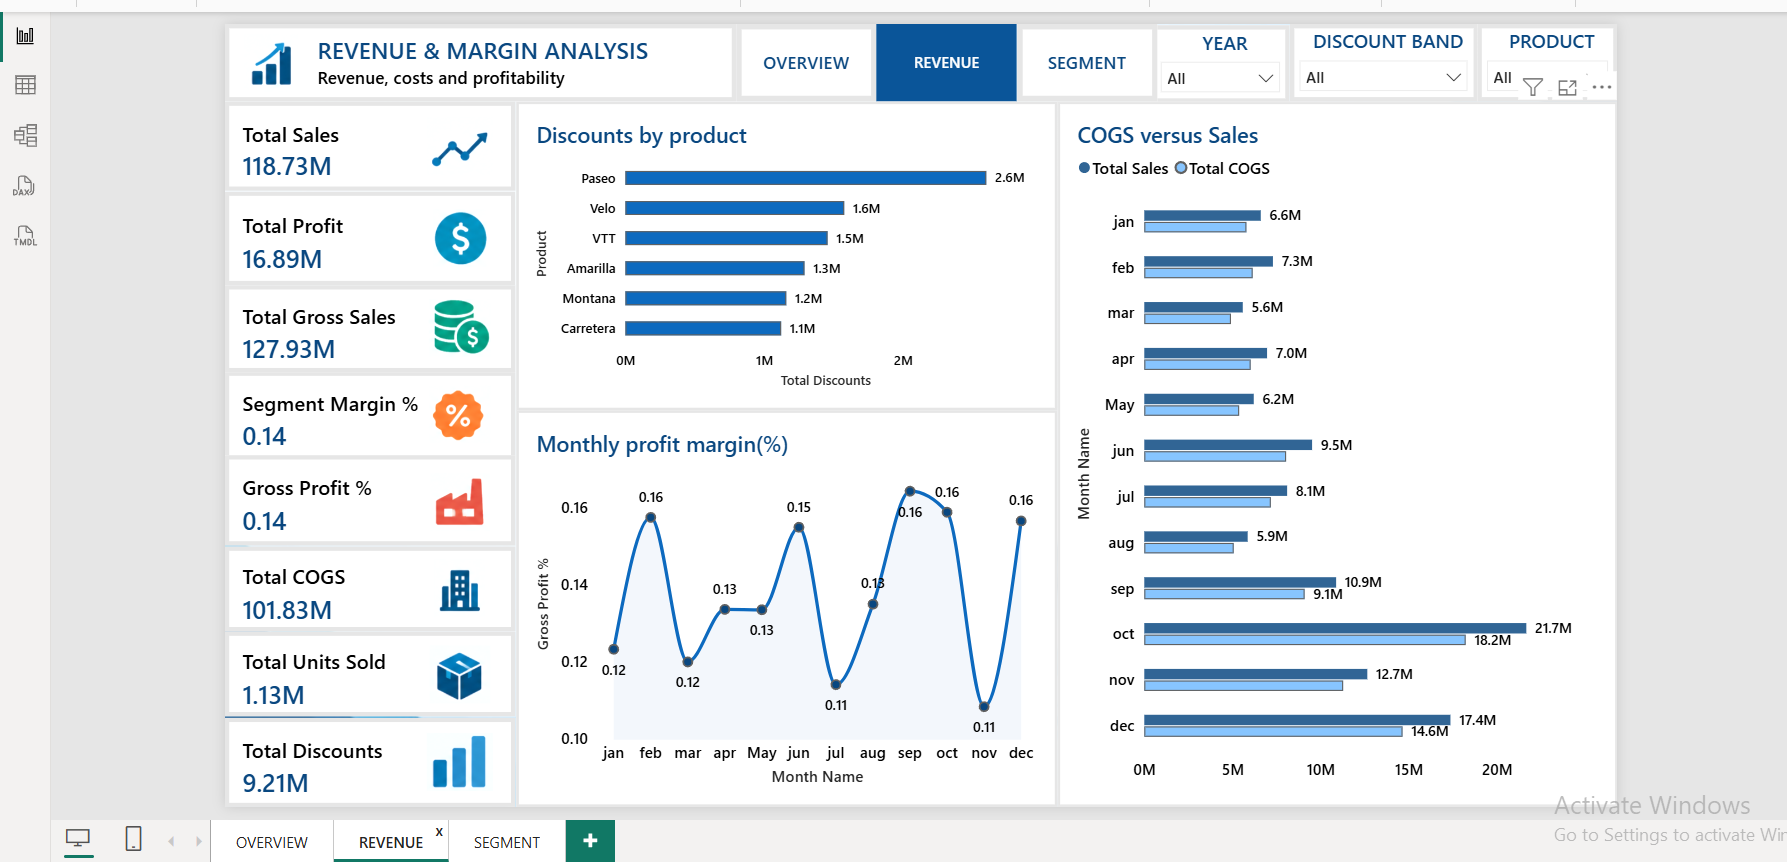

What the dashboard file says about the page in this screenshot:
{"tool":"powerbi","page":{"name":"REVENUE","canvas":[1280,720],"ordinal":1},"visuals":[{"type":"slicer","title":"YEAR","fields":{"Values":["DateTable.Year"]},"box":[851.2,1.2,127.5,71.2],"z":0},{"type":"slicer","title":"DISCOUNT BAND","fields":{"Values":["financial_sample_cleaned.Discount Band"]},"box":[978.8,0,172.5,71.2],"z":1000},{"type":"slicer","title":"PRODUCT","fields":{"Values":["financial_sample_cleaned.Product"]},"box":[1151.2,0,128.8,71.2],"z":2000},{"type":"clusteredBarChart","title":"Discounts by product","fields":{"Y":["financial_sample_cleaned.Total Discounts"],"Category":["financial_sample_cleaned.Product"]},"box":[267.5,71.2,497.5,283.8],"z":3000},{"type":"clusteredBarChart","title":"COGS versus Sales","fields":{"Category":["financial_sample_cleaned.Month Name"],"Y":["financial_sample_cleaned.Total Sales","financial_sample_cleaned.Total COGS"]},"box":[765,71.2,515,648.8],"z":4000},{"type":"lineChart","title":"Monthly profit margin(%)","fields":{"Category":["financial_sample_cleaned.Month Name"],"Y":["financial_sample_cleaned.Gross Profit %"]},"box":[267.5,355,497.5,365],"z":5000},{"type":"shape","box":[0,0,470,71.2],"z":6000},{"type":"cardVisual","fields":{"Data":["financial_sample_cleaned.Total Sales"]},"box":[0,71.2,267.5,82.5],"z":7000},{"type":"cardVisual","fields":{"Data":["financial_sample_cleaned.Total Profit"]},"box":[0,153.8,267.5,86.2],"z":8000},{"type":"cardVisual","fields":{"Data":["financial_sample_cleaned.Segment Margin %"]},"box":[0,320,267.5,81.2],"z":9000},{"type":"cardVisual","fields":{"Data":["financial_sample_cleaned.Gross Profit %"]},"box":[0,396.2,267.5,83.8],"z":10000},{"type":"cardVisual","fields":{"Data":["financial_sample_cleaned.Total Gross Sales"]},"box":[0,240,267.5,80],"z":11000},{"type":"cardVisual","fields":{"Data":["financial_sample_cleaned.Total COGS"]},"box":[0,480,267.5,78.8],"z":12000},{"type":"cardVisual","fields":{"Data":["financial_sample_cleaned.Total Units Sold"]},"box":[0,558.8,267.5,78.8],"z":13000},{"type":"cardVisual","fields":{"Data":["financial_sample_cleaned.Total Discounts"]},"box":[0,637.5,267.5,82.5],"z":14000},{"type":"image","box":[173.8,85,85,53.8],"z":15000},{"type":"image","box":[173.8,170,85,53.8],"z":16000},{"type":"image","box":[173.8,252.5,85,53.8],"z":17000},{"type":"image","box":[173.8,332.5,85,53.8],"z":18000},{"type":"image","box":[173.8,412.5,85,53.8],"z":19000},{"type":"image","box":[173.8,492.5,85,53.8],"z":20000},{"type":"image","box":[173.8,571.2,85,53.8],"z":21000},{"type":"image","box":[173.8,651.2,85,53.8],"z":22000},{"type":"image","box":[0,8.8,85,53.8],"z":23000},{"type":"textbox","box":[85,8.8,331.2,53.8],"z":24000},{"type":"pageNavigator","box":[470.5,0,389.7,71.2],"z":25000}]}

Visuals, with their boxes on the page's 1280x720 design canvas (x1, y1, x2, y2). These are canvas units, not pixel positions in the 1787x862 screenshot, which may show the page scaled, cropped or inside an application window:
"YEAR" slicer: rect(851, 1, 979, 72)
"DISCOUNT BAND" slicer: rect(979, 0, 1151, 71)
"PRODUCT" slicer: rect(1151, 0, 1280, 71)
"Discounts by product" clusteredBarChart: rect(268, 71, 765, 355)
"COGS versus Sales" clusteredBarChart: rect(765, 71, 1280, 720)
"Monthly profit margin(%)" lineChart: rect(268, 355, 765, 720)
shape: rect(0, 0, 470, 71)
cardVisual - financial_sample_cleaned.Total Sales: rect(0, 71, 268, 154)
cardVisual - financial_sample_cleaned.Total Profit: rect(0, 154, 268, 240)
cardVisual - financial_sample_cleaned.Segment Margin %: rect(0, 320, 268, 401)
cardVisual - financial_sample_cleaned.Gross Profit %: rect(0, 396, 268, 480)
cardVisual - financial_sample_cleaned.Total Gross Sales: rect(0, 240, 268, 320)
cardVisual - financial_sample_cleaned.Total COGS: rect(0, 480, 268, 559)
cardVisual - financial_sample_cleaned.Total Units Sold: rect(0, 559, 268, 638)
cardVisual - financial_sample_cleaned.Total Discounts: rect(0, 638, 268, 720)
image: rect(174, 85, 259, 139)
image: rect(174, 170, 259, 224)
image: rect(174, 252, 259, 306)
image: rect(174, 332, 259, 386)
image: rect(174, 412, 259, 466)
image: rect(174, 492, 259, 546)
image: rect(174, 571, 259, 625)
image: rect(174, 651, 259, 705)
image: rect(0, 9, 85, 63)
textbox: rect(85, 9, 416, 63)
pageNavigator: rect(470, 0, 860, 71)
